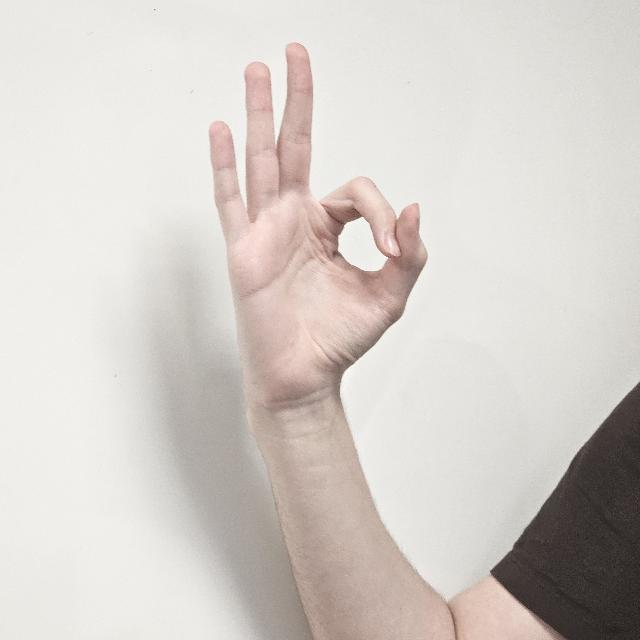Bolinha: (205, 36, 429, 390)
